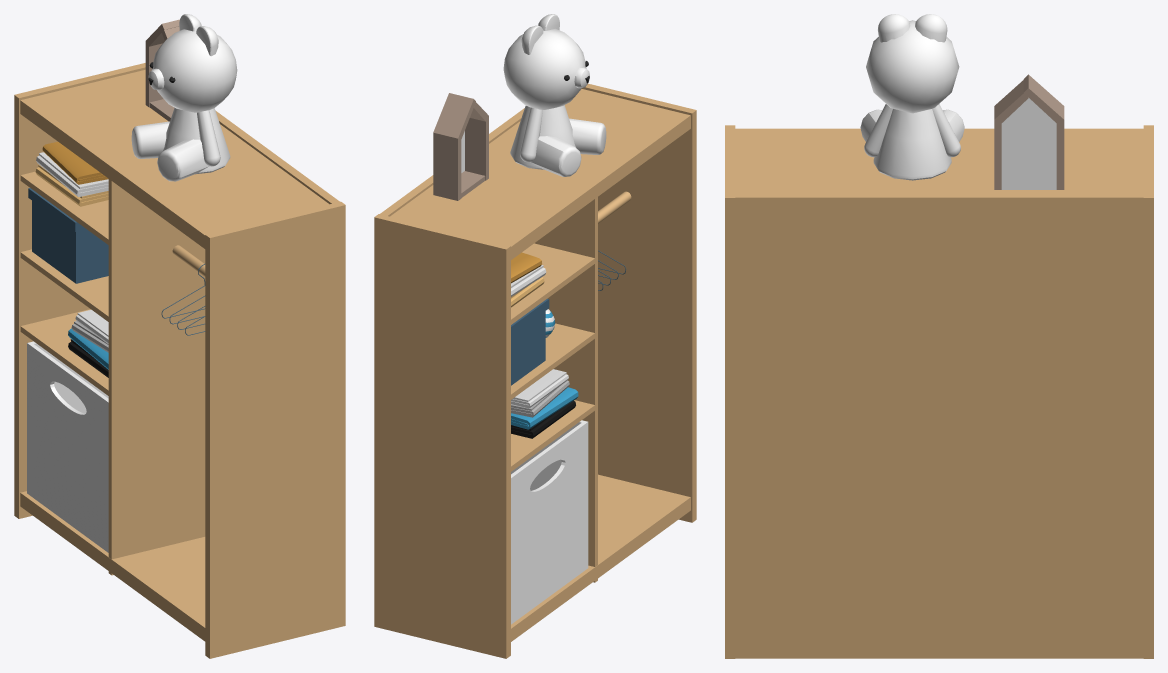
File: Furn1_chest_color1_joined.fbx
3 views of the same model, side by side, from view 1: azimuth 30°, elevation 25°; view 2: azimuth 150°, elevation 25°; view 3: azimuth 270°, elevation 25° (orthographic). The views are drawn at different scales.
Parts seen in each view (by area): view 1: Куб.065; view 2: Куб.065; view 3: Куб.065.
Boxes of the visible parts, left/top/right/bottom form: Куб.065: left=14, top=14, right=345, bottom=658; Куб.065: left=374, top=14, right=696, bottom=658; Куб.065: left=725, top=14, right=1153, bottom=658.
Size of the model in its own units: 119 by 468 by 298.
